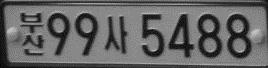4: (168, 13, 194, 57)
5: (140, 13, 164, 57)
8: (226, 13, 252, 58), (197, 13, 222, 57)
9: (46, 11, 70, 55), (74, 12, 98, 56)
부산_V: (19, 12, 44, 55)
사: (104, 15, 128, 53)
